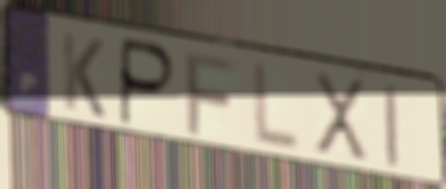F: (182, 48, 240, 139)
I: (382, 80, 401, 173)
K: (58, 28, 107, 122)
L: (251, 58, 303, 157)
P: (117, 34, 179, 131)
X: (311, 69, 371, 168)
